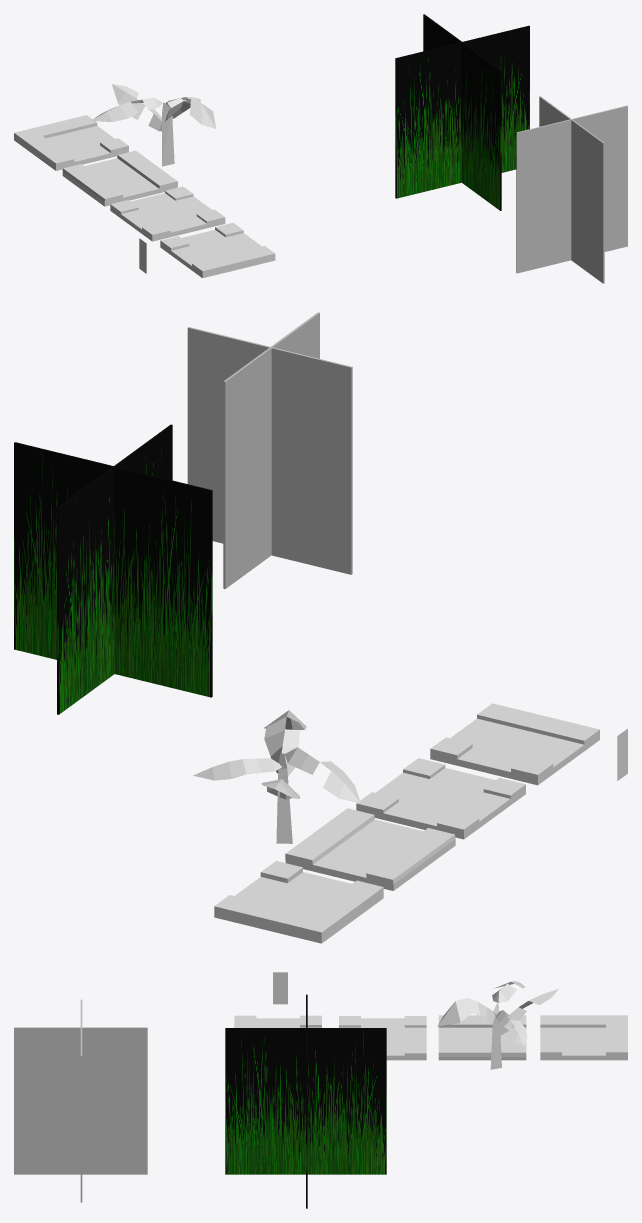
Rendered from Jalan and pohon.fbx.
3 views of the same model, one above another, from view 1: azimuth 30°, elevation 25°; view 2: azimuth 150°, elevation 25°; view 3: azimuth 270°, elevation 25° (orthographic). The views are drawn at different scales.
Parts seen in each view (by area): view 1: pngwing.com (1).001, pngwing.com (3).001, Cube.001, Cube, Cube.003, Cube.002, Cone.001, Cone.003, Cone.004, Cone; view 2: pngwing.com (1).001, pngwing.com (3).001, Cube.003, Cube, Cube.001, Cube.002, Cone.004, Cone.001, Cone.002, Cone; view 3: pngwing.com (1).001, pngwing.com (3).001, Cube.001, Cube, Cube.002, Cube.003, Cone.001, Cone.002, Cone, Cone.003, Pintu.002, Cone.004.
Part boxes in pixels (box(x1,y1,x2,y2)): pngwing.com (1).001: box(395, 14, 529, 210); pngwing.com (3).001: box(516, 96, 627, 283); Cube.001: box(14, 115, 128, 170); Cube: box(62, 150, 177, 206); Cube.003: box(160, 223, 275, 278); Cube.002: box(110, 186, 225, 241); Cone.001: box(165, 99, 215, 128); Cone.003: box(112, 84, 161, 131); Cone.004: box(91, 97, 162, 121); Cone: box(162, 102, 174, 166); pngwing.com (1).001: box(14, 424, 212, 714); pngwing.com (3).001: box(187, 312, 352, 588); Cube.003: box(430, 703, 599, 785); Cube: box(285, 808, 455, 890); Cube.001: box(214, 861, 383, 943); Cube.002: box(356, 758, 525, 839); Cone.004: box(284, 747, 360, 802); Cone.001: box(264, 710, 306, 776); Cone.002: box(193, 758, 281, 780); Cone: box(276, 753, 292, 843); pngwing.com (1).001: box(225, 994, 386, 1208); pngwing.com (3).001: box(14, 999, 147, 1202); Cube.001: box(540, 1015, 627, 1060); Cube: box(438, 1015, 526, 1060); Cube.002: box(339, 1016, 426, 1060); Cube.003: box(234, 1015, 321, 1027); Cone.001: box(437, 998, 494, 1026); Cone.002: box(496, 1010, 527, 1046); Cone: box(490, 1003, 501, 1069); Cone.003: box(498, 989, 558, 1036); Pintu.002: box(273, 972, 287, 1004); Cone.004: box(492, 981, 524, 1002).
Size of the model in its own units: 3873 by 1311 by 4939.
